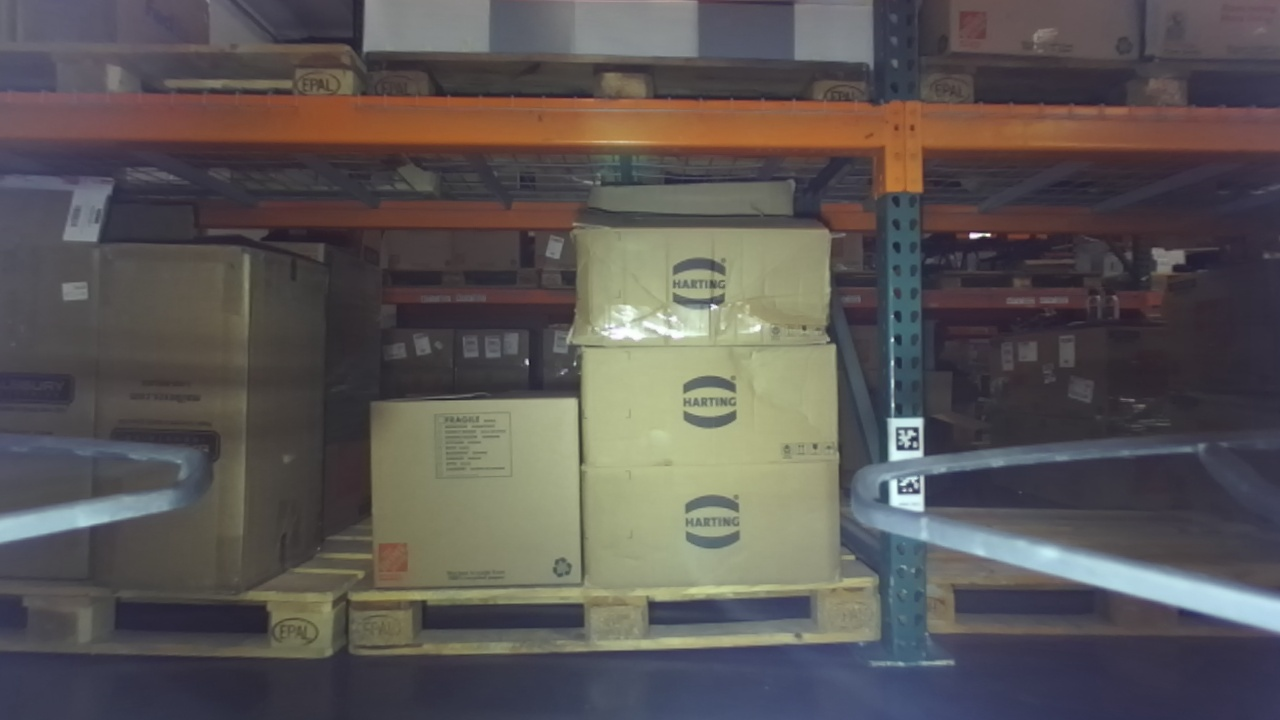box: (82, 232, 336, 624), (559, 172, 865, 348), (355, 387, 600, 603), (565, 447, 865, 598), (560, 337, 861, 472)
